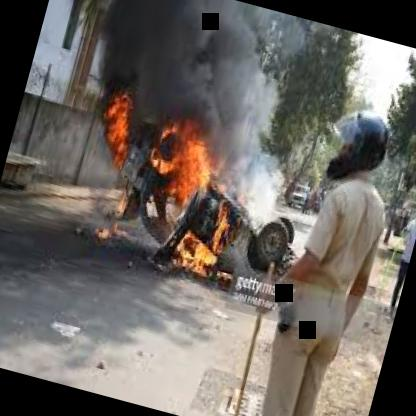fire: (51, 0, 301, 280)
